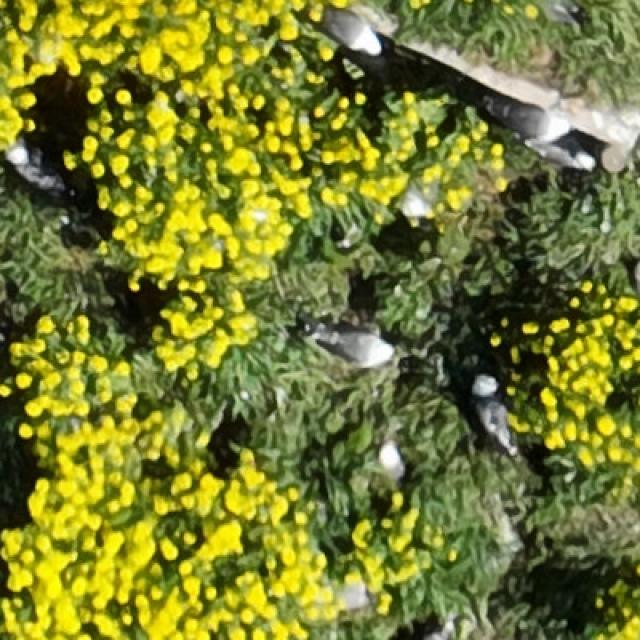umineko: (495, 96, 572, 143), (320, 6, 381, 54), (8, 144, 60, 191), (321, 331, 391, 363), (480, 392, 514, 456), (372, 440, 412, 483), (542, 145, 592, 170)
